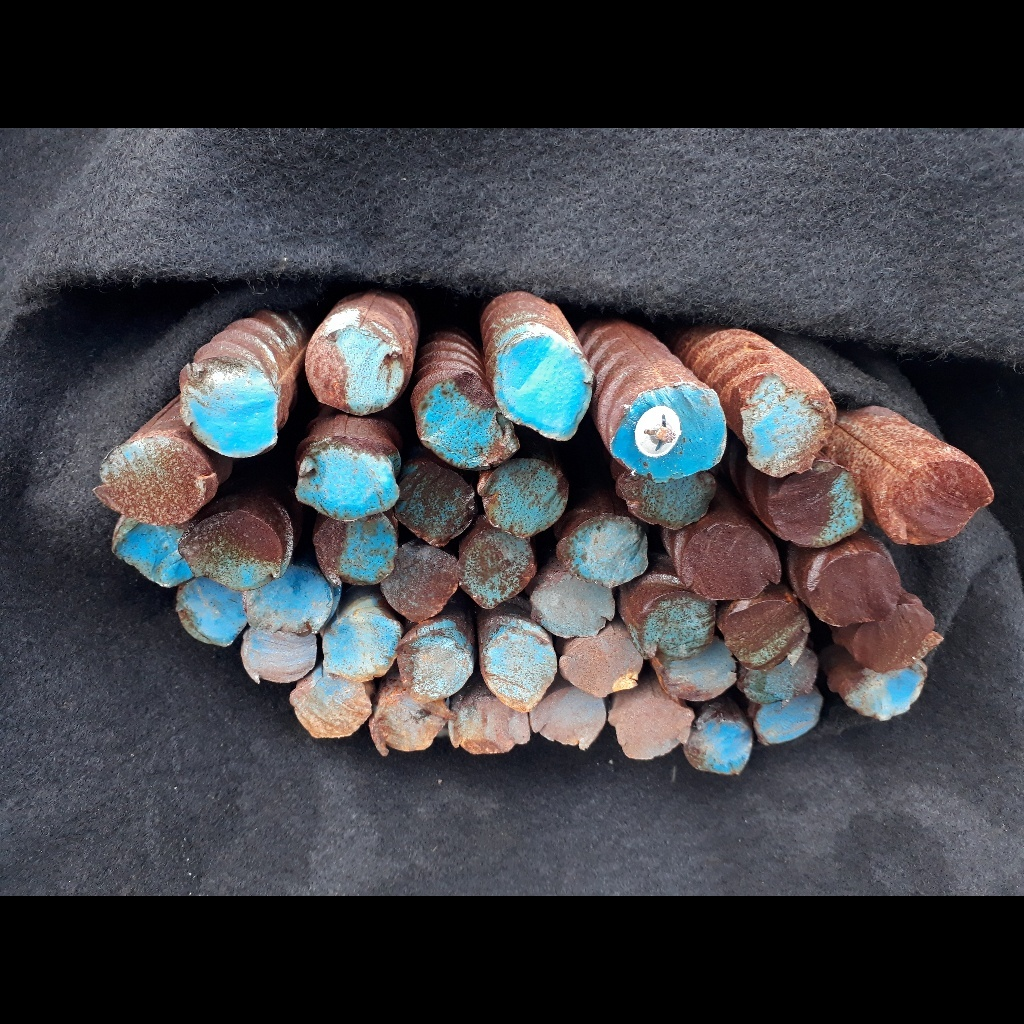dipstick: (495, 338, 595, 441), (613, 387, 726, 477), (181, 358, 279, 458), (306, 324, 405, 415), (895, 457, 995, 547), (103, 438, 206, 523), (742, 378, 825, 475), (420, 387, 517, 468), (679, 526, 782, 598), (296, 449, 399, 520), (772, 468, 864, 546), (181, 513, 279, 586), (481, 458, 571, 535), (809, 553, 900, 625), (851, 601, 942, 671), (396, 464, 473, 545), (725, 600, 809, 669), (112, 519, 193, 588), (564, 514, 645, 583), (246, 569, 331, 632), (481, 635, 554, 707), (464, 535, 536, 607), (393, 544, 462, 619), (315, 519, 394, 583), (616, 473, 712, 525), (612, 696, 690, 760), (399, 631, 473, 698), (290, 678, 368, 739), (559, 638, 640, 694), (535, 579, 618, 633), (321, 621, 399, 678), (640, 594, 712, 654), (175, 582, 241, 647), (451, 700, 528, 754), (532, 693, 606, 749), (853, 667, 930, 720), (376, 693, 444, 753), (240, 633, 316, 685), (688, 719, 754, 776), (660, 656, 738, 701), (753, 704, 821, 744), (745, 669, 818, 704)
